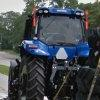Tractor: (15, 6, 100, 100)
